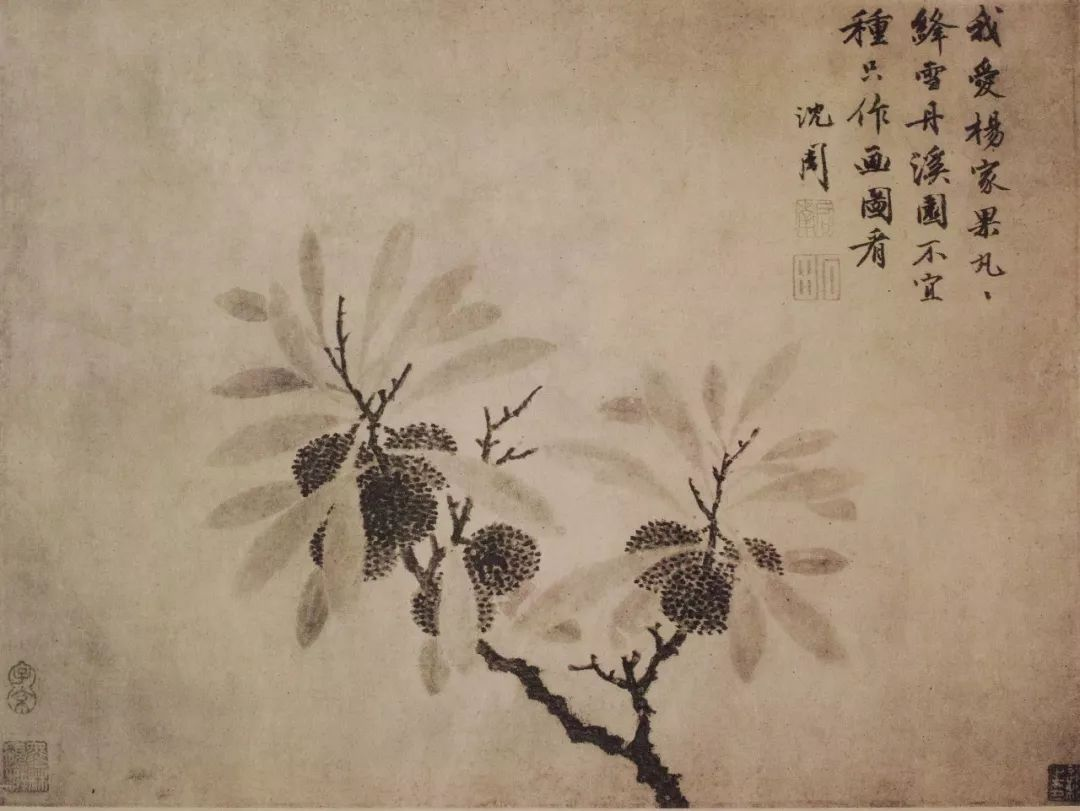flower: (247, 267, 539, 688), (641, 386, 852, 673), (633, 687, 681, 800), (542, 696, 589, 737), (590, 731, 628, 750)
